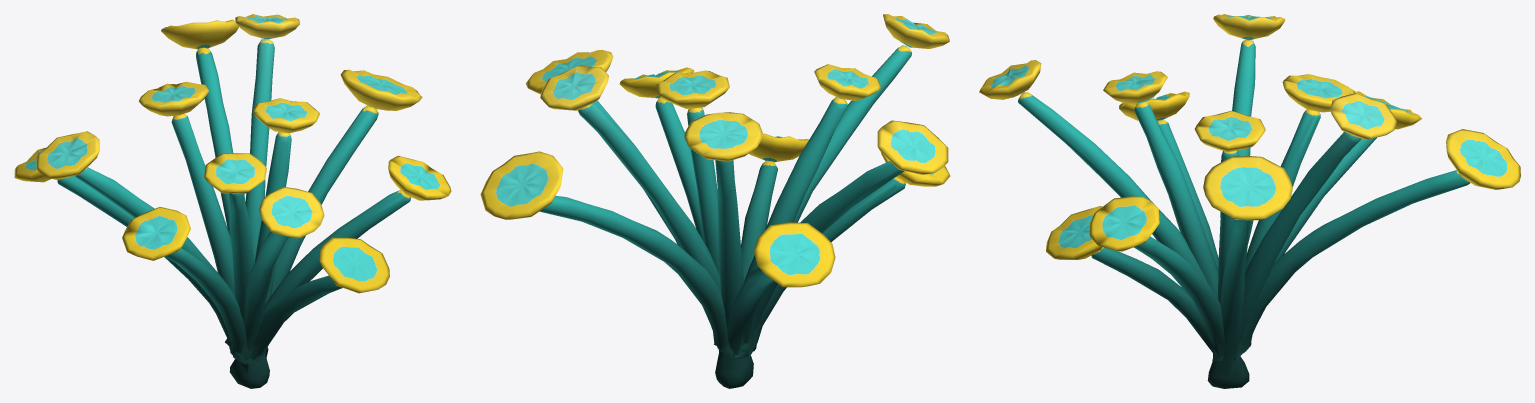
File: Coral_Polyp.fbx
3 renders of one model, left to right at view 1: azimuth 30°, elevation 25°; view 2: azimuth 150°, elevation 25°; view 3: azimuth 270°, elevation 25°, orthographic. The views are drawn at different scales.
Parts seen in each view (by area): view 1: Coral_Polyp; view 2: Coral_Polyp; view 3: Coral_Polyp.
Part boxes in pixels (<box>): Coral_Polyp: <box>14,14,451,388</box>; Coral_Polyp: <box>480,14,950,388</box>; Coral_Polyp: <box>979,14,1520,388</box>.
Bounding box in the file's own units: 0.9832 × 0.771 × 1.17.
1 material, 1 textured.
